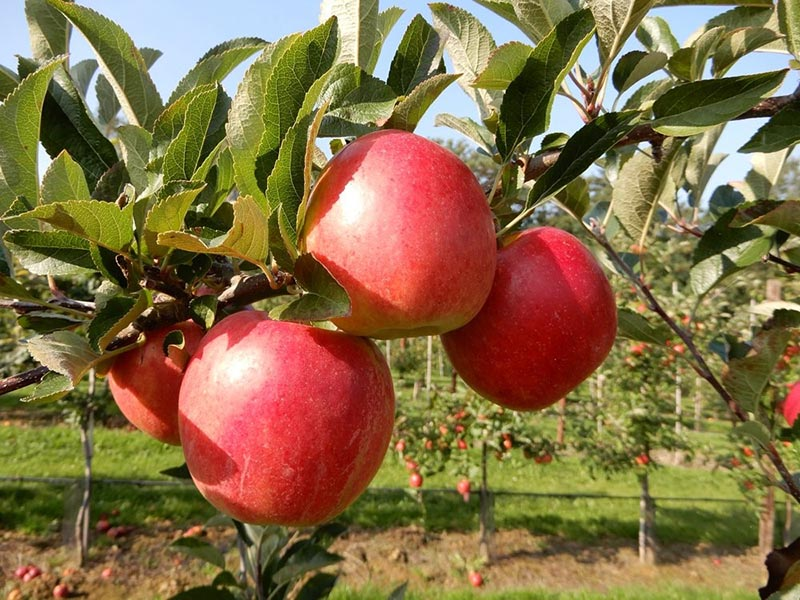elma: (181, 307, 396, 527), (299, 130, 496, 334), (443, 223, 618, 409)
